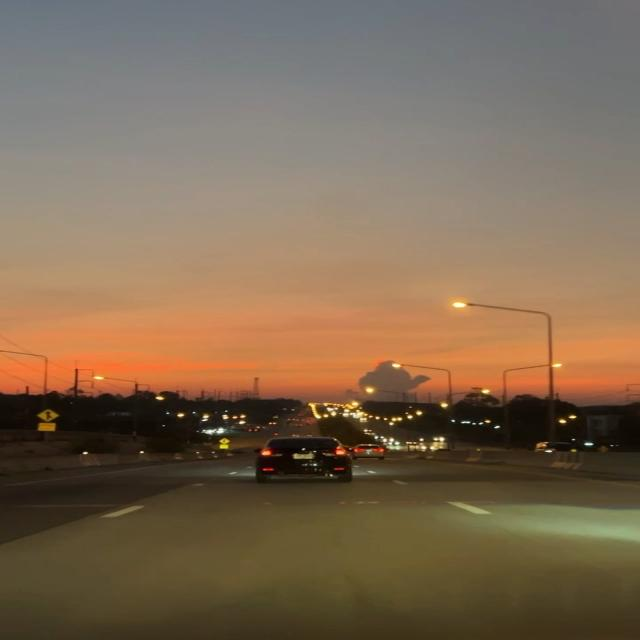Poth-hole: (137, 495, 636, 615)
